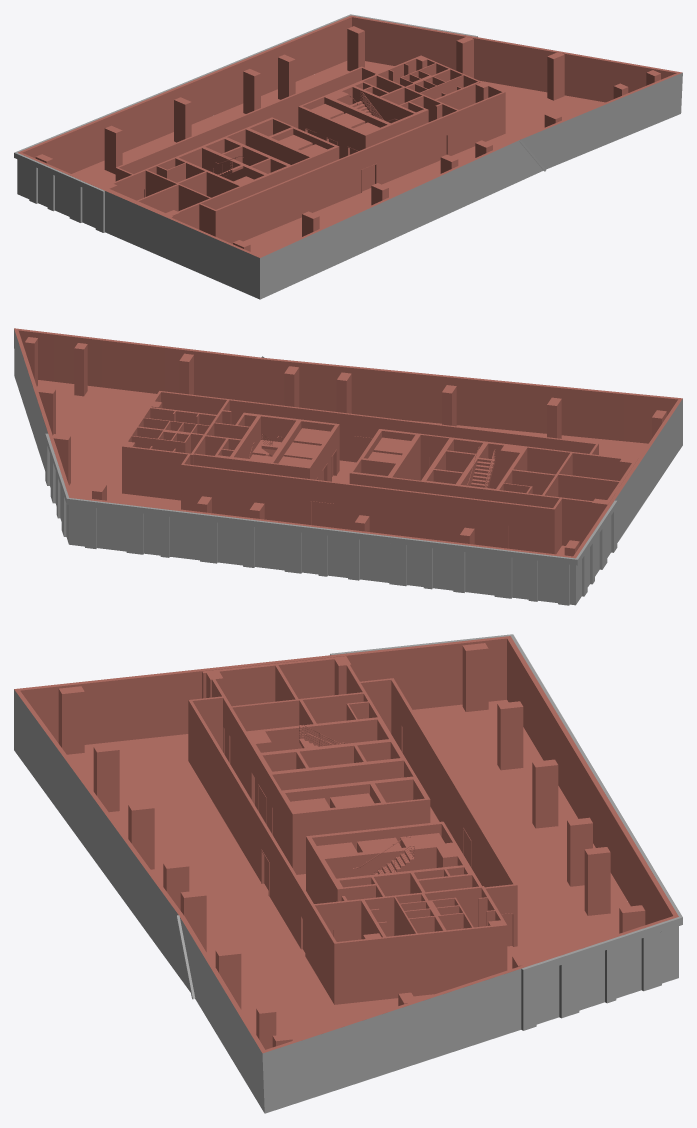
File: JLL_Ruya_Region3DModels_Riyadh_Derived_HeroBuildings_Building 305_Floors_KSA_04_04105_B29_Floor_T1_7.fbx
3 renders of one model, top to bottom at view 1: azimuth 30°, elevation 25°; view 2: azimuth 150°, elevation 25°; view 3: azimuth 270°, elevation 25°, orthographic. The views are drawn at different scales.
Visible parts, largest first — view 1: KSA_04_04105_B29_Floor_T1_7; view 2: KSA_04_04105_B29_Floor_T1_7; view 3: KSA_04_04105_B29_Floor_T1_7.
Part boxes in pixels (x1,y1,x2,y2): KSA_04_04105_B29_Floor_T1_7: [14, 14, 682, 299]; KSA_04_04105_B29_Floor_T1_7: [14, 328, 682, 605]; KSA_04_04105_B29_Floor_T1_7: [14, 634, 682, 1113].
Size of what is drawn, in the model's own units: 6004 by 508 by 4048.
